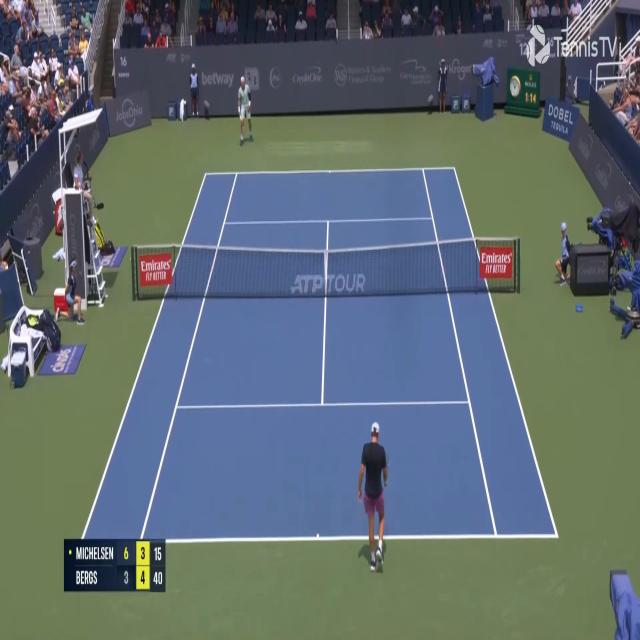tennis-player: (356, 420, 390, 573), (237, 76, 255, 146)
